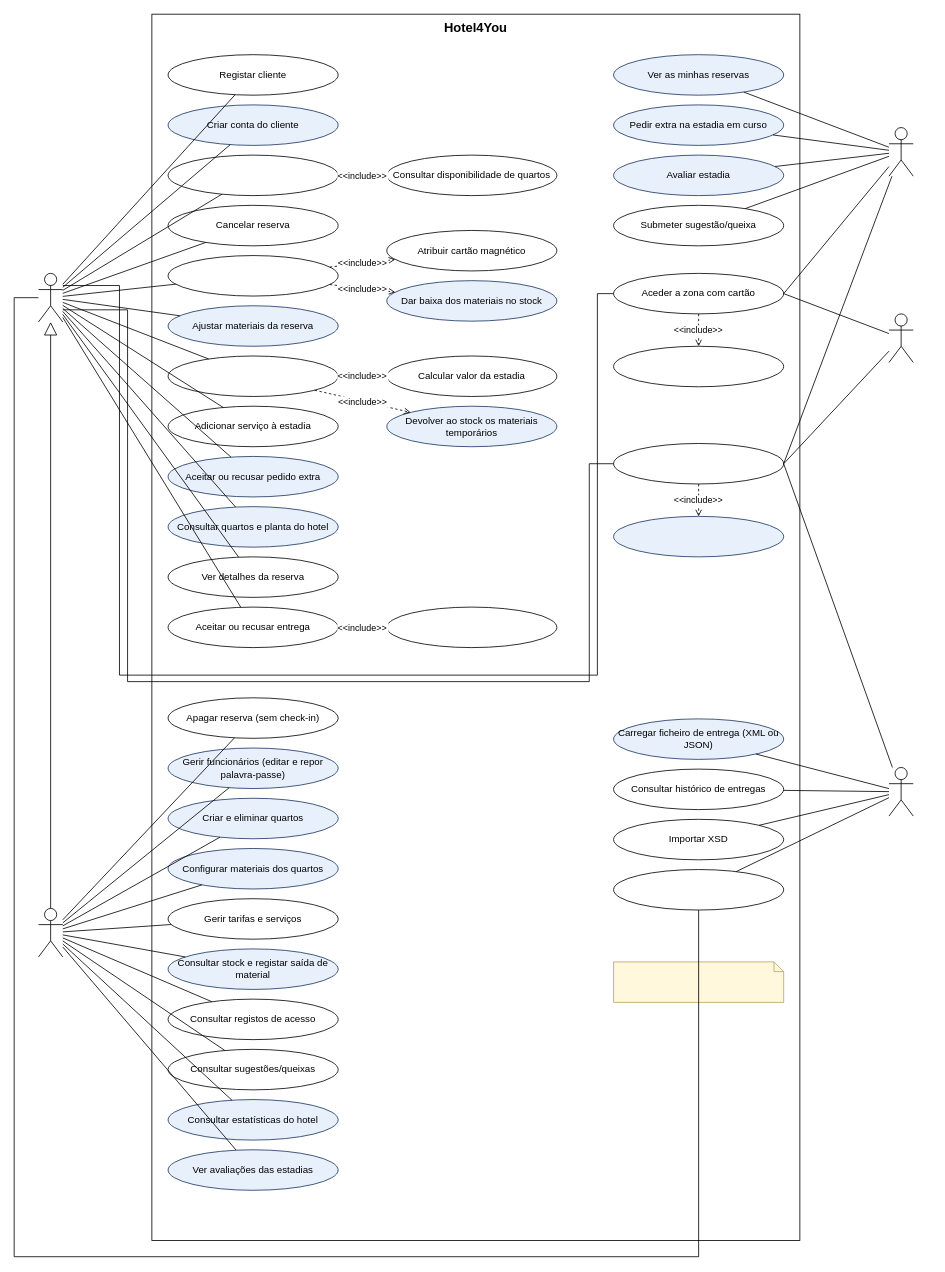
Some shapes in this 945 by 1272 pixel diagram are drawn without their labels. The shapes that lost their labels are listed below. From the top down, each one's box as (x1, y1, x2, y2) in pixels, then its label:
(888, 127, 913, 176): Cliente
(167, 154, 338, 196): Criar reserva
(167, 255, 338, 296): Efetuar check-in
(38, 273, 63, 322): Rececionista
(888, 313, 913, 362): Restauração
(167, 355, 338, 396): Efetuar check-out
(613, 345, 784, 387): Registar acesso (local e hora)
(613, 443, 784, 484): Autenticar
(613, 516, 784, 557): Cancelar reservas sem check-in
(386, 606, 557, 648): Registar movimento de stock
(888, 767, 913, 816): Fornecedor
(613, 869, 784, 910): Ver entrega como fatura
(38, 908, 63, 957): Gestor
(613, 961, 784, 1002): A azul: casos de uso novos da Sprint 6.
